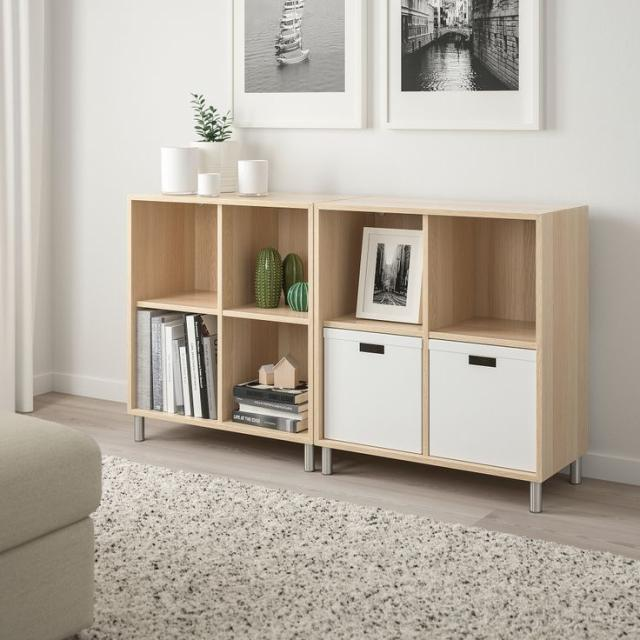Shelf: (118, 187, 596, 517)
